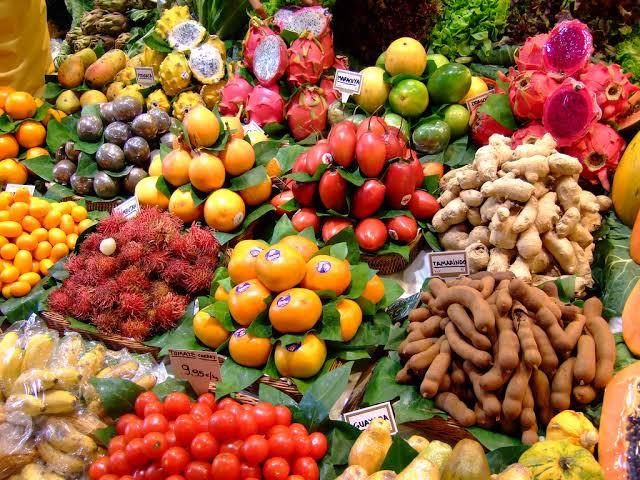chom_chom: (122, 211, 185, 322)
